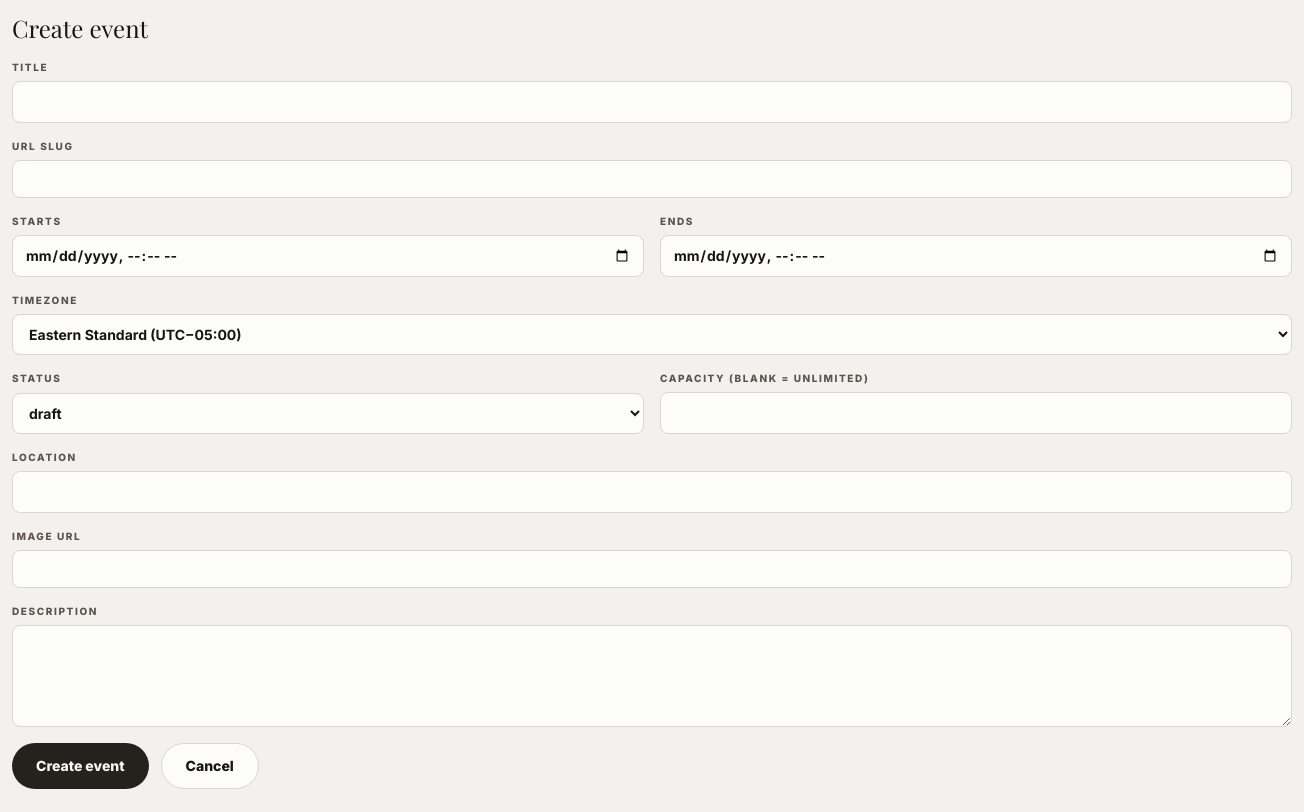
Test case: invalid capacity 0 never reaches the event adapter
Type "Sandbox event" into the field labelled "Title" at (652, 102), box [12, 81, 1292, 123]
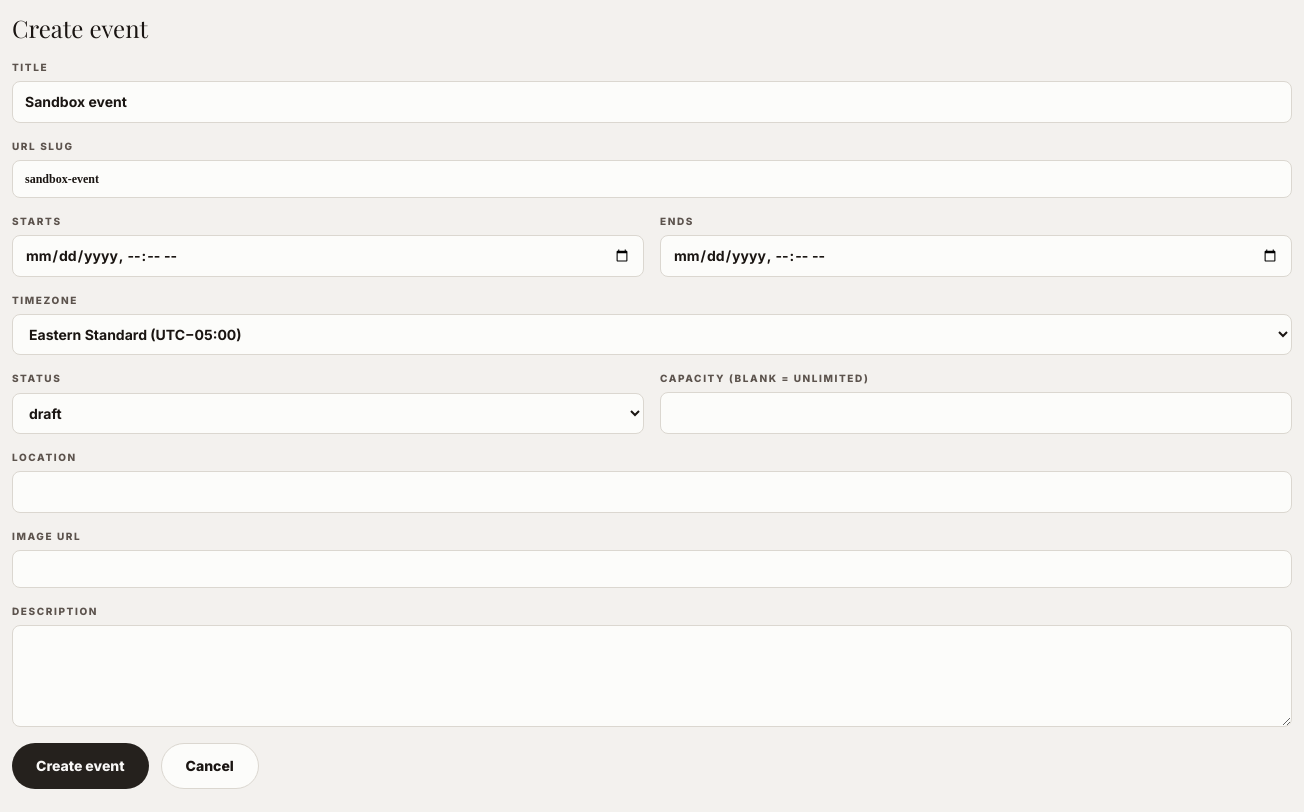
Type "2099-06-01T10:00" into the field labelled "Starts" at (328, 256), box [12, 235, 644, 277]
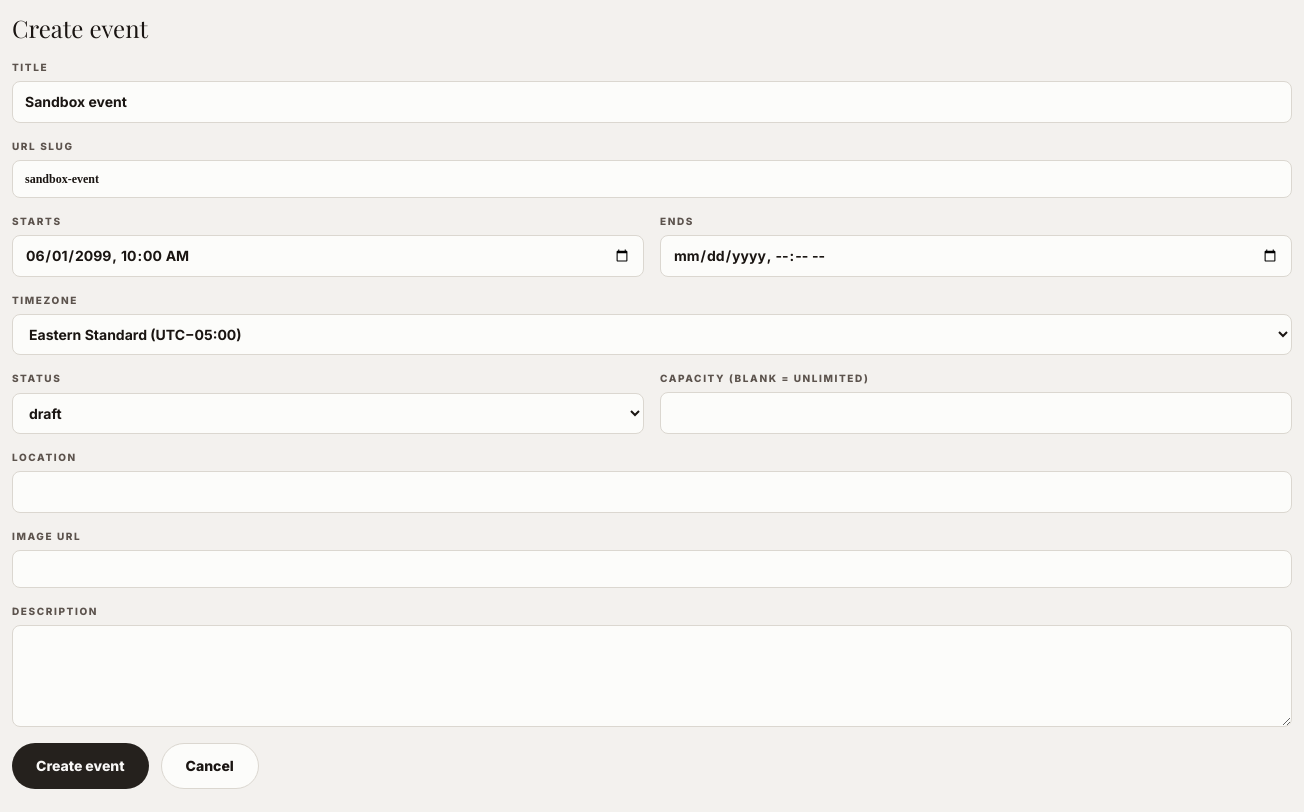
Type "2099-06-01T11:00" into the field labelled "Ends" at (976, 256), box [660, 235, 1292, 277]
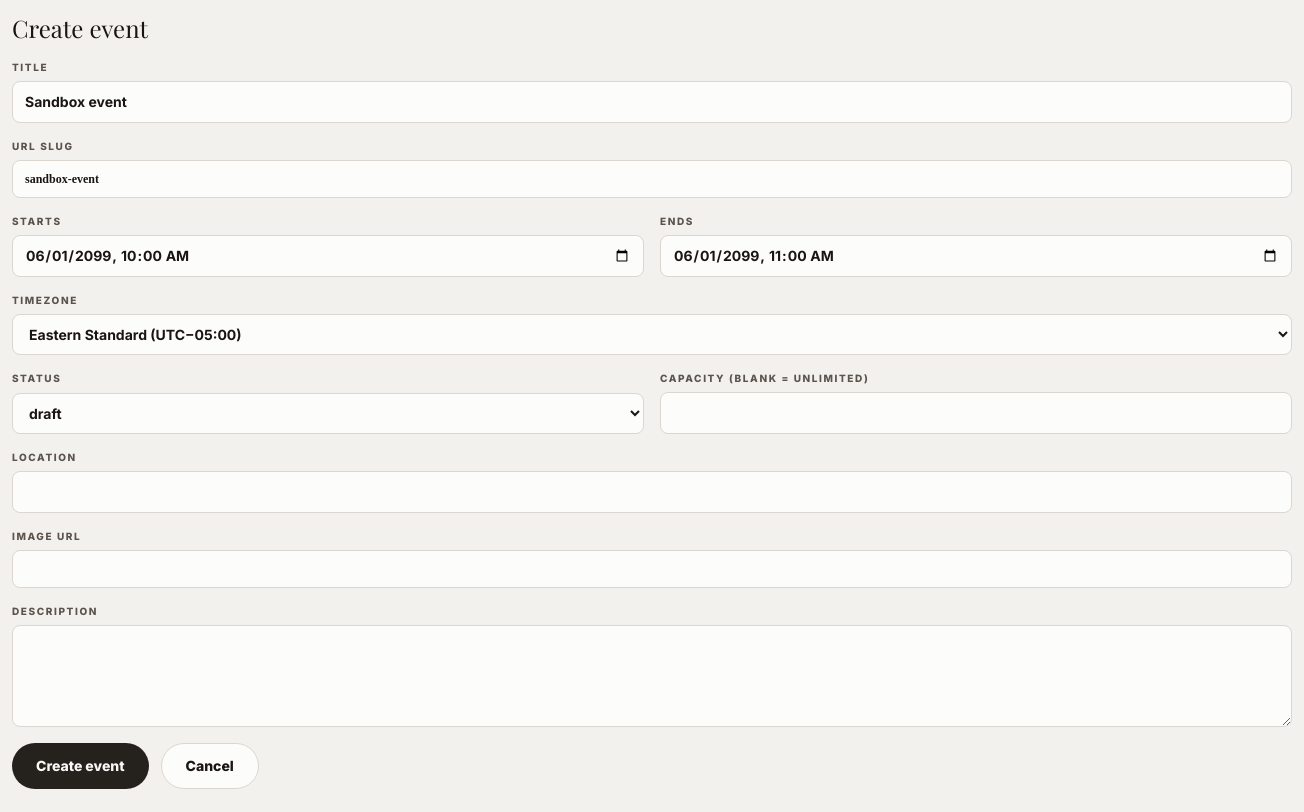
Type "0" into the field labelled "Capacity (blank = unlimited)" at (976, 413), box [660, 392, 1292, 434]
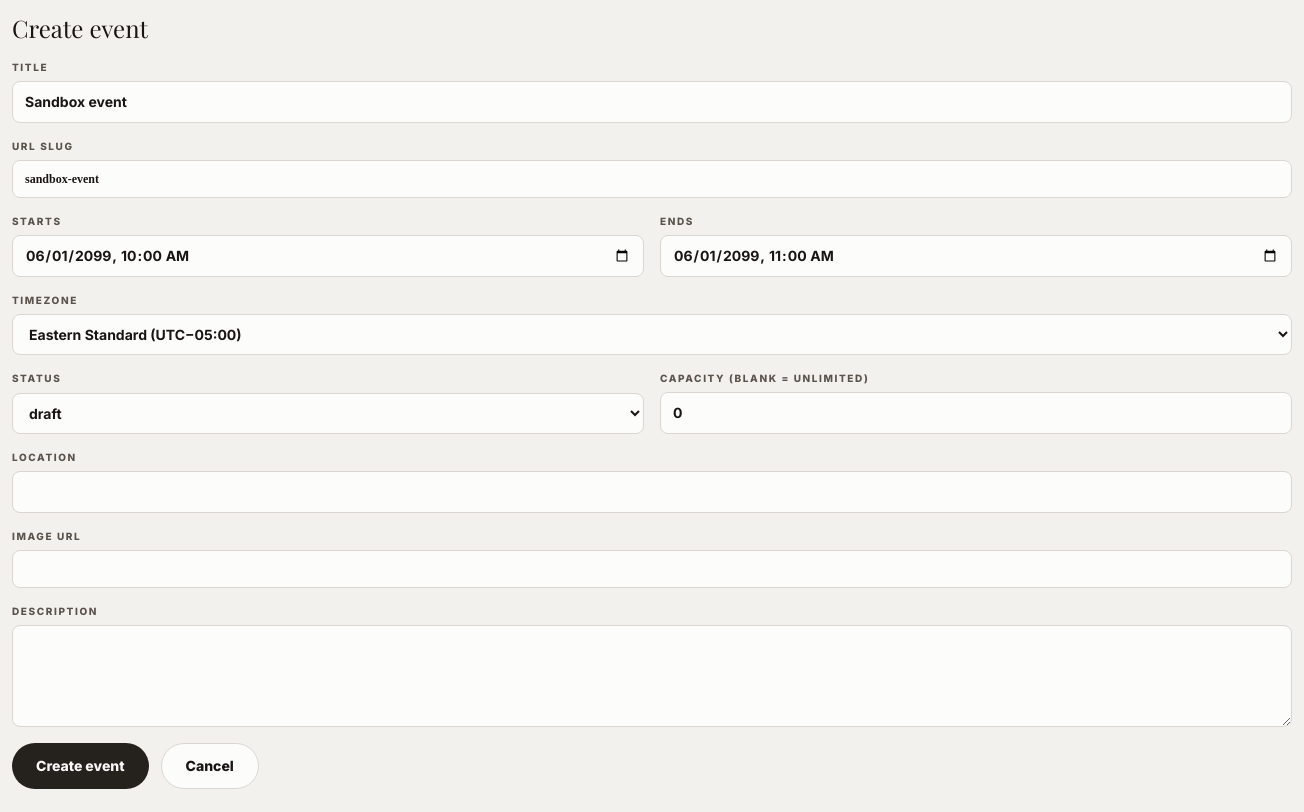
Click the button "Create event" at (80, 766), box [12, 743, 149, 789]
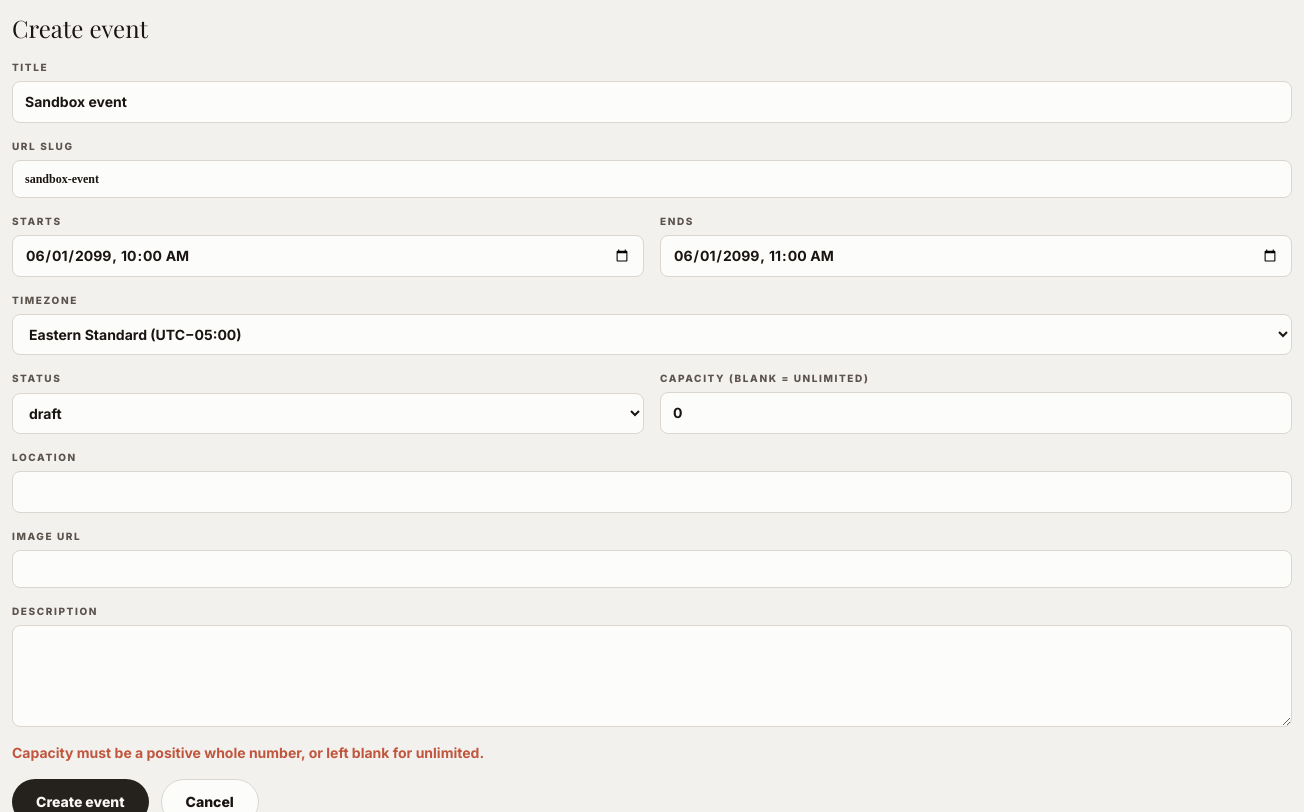
Expected: the text "Capacity must be a positive whole number" is shown, [12, 744, 484, 761]
